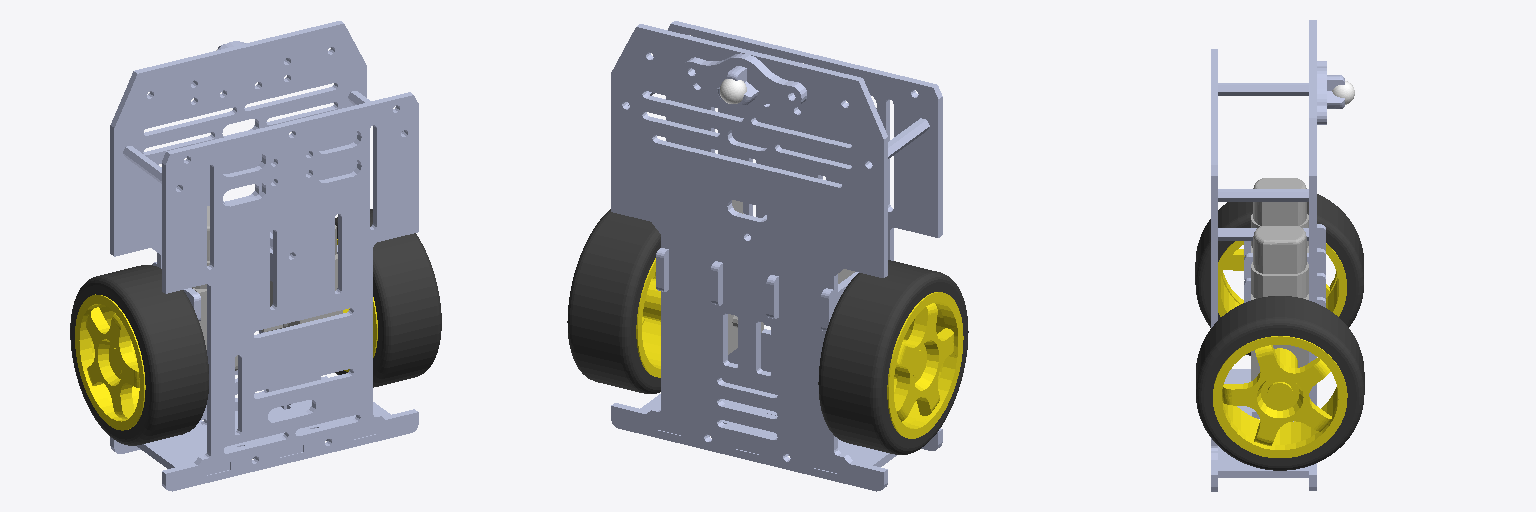
URDF robot description (Carrinho URDF):
<robot
  name="Carrinho URDF">
  <link
    name="Carrinho">
    <inertial>
      <origin
        xyz="0.00199666199987792 -0.0189400807611972 -0.0136881532668823"
        rpy="0 0 0" />
      <mass
        value="0.082768423902304" />
      <inertia
        ixx="0.000201613844720641"
        ixy="2.66609005386214E-08"
        ixz="3.70440577606517E-07"
        iyy="0.000240846517634568"
        iyz="-6.05506685626216E-06"
        izz="9.16930272171248E-05" />
    </inertial>
    <visual>
      <origin
        xyz="0 0 0"
        rpy="0 0 0" />
      <geometry>
        <mesh
          filename="package://Carrinho URDF/meshes/Carrinho.STL" />
      </geometry>
      <material
        name="">
        <color
          rgba="0.792156862745098 0.819607843137255 0.933333333333333 1" />
      </material>
    </visual>
    <collision>
      <origin
        xyz="0 0 0"
        rpy="0 0 0" />
      <geometry>
        <mesh
          filename="package://Carrinho URDF/meshes/Carrinho.STL" />
      </geometry>
    </collision>
  </link>
  <link
    name="Suporte_Esfera">
    <inertial>
      <origin
        xyz="-1.74261561344119E-10 3.40530969989428E-05 0.00148657220862539"
        rpy="0 0 0" />
      <mass
        value="0.00237414440210429" />
      <inertia
        ixx="4.87449544241318E-08"
        ixy="7.95368212523813E-15"
        ixz="2.08753910021196E-15"
        iyy="2.65313839101856E-07"
        iyz="3.24384163348973E-10"
        izz="2.97043383546495E-07" />
    </inertial>
    <visual>
      <origin
        xyz="0 0 0"
        rpy="0 0 0" />
      <geometry>
        <mesh
          filename="package://Carrinho URDF/meshes/Suporte_Esfera.STL" />
      </geometry>
      <material
        name="">
        <color
          rgba="0.792156862745098 0.819607843137255 0.933333333333333 1" />
      </material>
    </visual>
    <collision>
      <origin
        xyz="0 0 0"
        rpy="0 0 0" />
      <geometry>
        <mesh
          filename="package://Carrinho URDF/meshes/Suporte_Esfera.STL" />
      </geometry>
    </collision>
  </link>
  <joint
    name="Suporte_Esfera"
    type="fixed">
    <origin
      xyz="0.00193006122237212 0.00399999999997863 0.0602622704161046"
      rpy="1.5707963267949 0 0" />
    <parent
      link="Carrinho" />
    <child
      link="Suporte_Esfera" />
    <axis
      xyz="0 0 0" />
  </joint>
  <link
    name="Esfera">
    <inertial>
      <origin
        xyz="-5.82702822648933E-05 -2.4175771078036E-06 -0.00584954283957461"
        rpy="0 0 0" />
      <mass
        value="0.00045167495160957" />
      <inertia
        ixx="4.09374806834351E-09"
        ixy="9.63756597512817E-30"
        ixz="-7.86966983612496E-14"
        iyy="4.09344819598164E-09"
        iyz="8.24300091953962E-42"
        izz="4.09344819598164E-09" />
    </inertial>
    <visual>
      <origin
        xyz="0 0 0"
        rpy="0 0 0" />
      <geometry>
        <mesh
          filename="package://Carrinho URDF/meshes/Esfera.STL" />
      </geometry>
      <material
        name="">
        <color
          rgba="1 1 1 1" />
      </material>
    </visual>
    <collision>
      <origin
        xyz="0 0 0"
        rpy="0 0 0" />
      <geometry>
        <mesh
          filename="package://Carrinho URDF/meshes/Esfera.STL" />
      </geometry>
    </collision>
  </link>
  <joint
    name="Esfera"
    type="continuous">
    <origin
      xyz="0 0 0"
      rpy="0 0 0" />
    <parent
      link="Suporte_Esfera" />
    <child
      link="Esfera" />
    <axis
      xyz="0 0 1" />
  </joint>
  <link
    name="Motor_D">
    <inertial>
      <origin
        xyz="0.0238231938332452 -0.014248229179572 -0.0226342761780915"
        rpy="0 0 0" />
      <mass
        value="0.0232395660314829" />
      <inertia
        ixx="7.88517781065102E-06"
        ixy="-1.50721312408531E-11"
        ixz="-5.63972204102169E-09"
        iyy="7.69643214597542E-06"
        iyz="8.82214845720843E-10"
        izz="1.5253573475261E-06" />
    </inertial>
    <visual>
      <origin
        xyz="0 0 0"
        rpy="0 0 0" />
      <geometry>
        <mesh
          filename="package://Carrinho URDF/meshes/Motor_D.STL" />
      </geometry>
      <material
        name="">
        <color
          rgba="0.752941176470588 0.752941176470588 0.752941176470588 1" />
      </material>
    </visual>
    <collision>
      <origin
        xyz="0 0 0"
        rpy="0 0 0" />
      <geometry>
        <mesh
          filename="package://Carrinho URDF/meshes/Motor_D.STL" />
      </geometry>
    </collision>
  </link>
  <joint
    name="Motor_D"
    type="fixed">
    <origin
      xyz="0 0 0"
      rpy="0 0 0" />
    <parent
      link="Carrinho" />
    <child
      link="Motor_D" />
    <axis
      xyz="0 0 0" />
  </joint>
  <link
    name="Roda_D">
    <inertial>
      <origin
        xyz="2.13200332388475E-10 -0.0180789354797895 -5.56268250039016E-09"
        rpy="0 0 0" />
      <mass
        value="0.0192262452096981" />
      <inertia
        ixx="5.3538644746941E-06"
        ixy="1.85716539437448E-14"
        ixz="-9.4733702267839E-14"
        iyy="8.13780883173974E-06"
        iyz="-1.19742575833095E-13"
        izz="5.35401412475363E-06" />
    </inertial>
    <visual>
      <origin
        xyz="0 0 0"
        rpy="0 0 0" />
      <geometry>
        <mesh
          filename="package://Carrinho URDF/meshes/Roda_D.STL" />
      </geometry>
      <material
        name="">
        <color
          rgba="1 0.933333333333333 0.133333333333333 1" />
      </material>
    </visual>
    <collision>
      <origin
        xyz="0 0 0"
        rpy="0 0 0" />
      <geometry>
        <mesh
          filename="package://Carrinho URDF/meshes/Roda_D.STL" />
      </geometry>
    </collision>
  </link>
  <joint
    name="Roda_D"
    type="revolute">
    <origin
      xyz="0.0350300612223726 -0.0141843621168738 -0.0397377295838951"
      rpy="1.5707963267949 -1.5707963267949 0" />
    <parent
      link="Motor_D" />
    <child
      link="Roda_D" />
    <axis
      xyz="0 -1 0" />
  </joint>
  <link
    name="Pneu_D">
    <inertial>
      <origin
        xyz="1.00676758596485E-12 -0.0100000000000003 0.0169999623664972"
        rpy="0 0 0" />
      <mass
        value="0.0290901066464294" />
      <inertia
        ixx="1.39853690384949E-05"
        ixy="-4.04662956150723E-11"
        ixz="-3.3017913101882E-20"
        iyy="1.39897083178151E-05"
        iyz="4.97345879631873E-20"
        izz="2.50811515180265E-05" />
    </inertial>
    <visual>
      <origin
        xyz="0 0 0"
        rpy="0 0 0" />
      <geometry>
        <mesh
          filename="package://Carrinho URDF/meshes/Pneu_D.STL" />
      </geometry>
      <material
        name="">
        <color
          rgba="0.294117647058824 0.294117647058824 0.294117647058824 1" />
      </material>
    </visual>
    <collision>
      <origin
        xyz="0 0 0"
        rpy="0 0 0" />
      <geometry>
        <mesh
          filename="package://Carrinho URDF/meshes/Pneu_D.STL" />
      </geometry>
    </collision>
  </link>
  <joint
    name="Pneu_D"
    type="fixed">
    <origin
      xyz="0.01 0 0"
      rpy="1.5707963267949 1.5707963267949 0" />
    <parent
      link="Roda_D" />
    <child
      link="Pneu_D" />
    <axis
      xyz="0 0 1" />
  </joint>
  <link
    name="Motor_E">
    <inertial>
      <origin
        xyz="-0.0199630713885005 -0.0142517708204707 -0.0226342761780919"
        rpy="0 0 0" />
      <mass
        value="0.0232395660314828" />
      <inertia
        ixx="7.88517781065102E-06"
        ixy="-1.50721312408669E-11"
        ixz="5.63972204102054E-09"
        iyy="7.69643214597542E-06"
        iyz="-8.82214845721639E-10"
        izz="1.5253573475261E-06" />
    </inertial>
    <visual>
      <origin
        xyz="0 0 0"
        rpy="0 0 0" />
      <geometry>
        <mesh
          filename="package://Carrinho URDF/meshes/Motor_E.STL" />
      </geometry>
      <material
        name="">
        <color
          rgba="0.752941176470588 0.752941176470588 0.752941176470588 1" />
      </material>
    </visual>
    <collision>
      <origin
        xyz="0 0 0"
        rpy="0 0 0" />
      <geometry>
        <mesh
          filename="package://Carrinho URDF/meshes/Motor_E.STL" />
      </geometry>
    </collision>
  </link>
  <joint
    name="Motor_E"
    type="fixed">
    <origin
      xyz="0 0 0"
      rpy="0 0 0" />
    <parent
      link="Carrinho" />
    <child
      link="Motor_E" />
    <axis
      xyz="0 0 0" />
  </joint>
  <link
    name="Roda_E">
    <inertial>
      <origin
        xyz="2.13200332388475E-10 -0.0180789354797895 -5.56268249865544E-09"
        rpy="0 0 0" />
      <mass
        value="0.0192262452096981" />
      <inertia
        ixx="5.3538644746941E-06"
        ixy="1.85716557030657E-14"
        ixz="-9.47337026621762E-14"
        iyy="8.13780883173973E-06"
        iyz="-1.19742576037902E-13"
        izz="5.35401412475363E-06" />
    </inertial>
    <visual>
      <origin
        xyz="0 0 0"
        rpy="0 0 0" />
      <geometry>
        <mesh
          filename="package://Carrinho URDF/meshes/Roda_E.STL" />
      </geometry>
      <material
        name="">
        <color
          rgba="1 0.933333333333333 0.133333333333333 1" />
      </material>
    </visual>
    <collision>
      <origin
        xyz="0 0 0"
        rpy="0 0 0" />
      <geometry>
        <mesh
          filename="package://Carrinho URDF/meshes/Roda_E.STL" />
      </geometry>
    </collision>
  </link>
  <joint
    name="Roda_E"
    type="revolute">
    <origin
      xyz="-0.0311699387776279 -0.0143156378831686 -0.0397377295838953"
      rpy="0 1.52438302633885 -1.5707963267949" />
    <parent
      link="Motor_E" />
    <child
      link="Roda_E" />
    <axis
      xyz="0 1 0" />
  </joint>
  <link
    name="Pneu_E">
    <inertial>
      <origin
        xyz="1.0067641165179E-12 3.19189119579733E-16 -0.0125012163640283"
        rpy="0 0 0" />
      <mass
        value="0.0290901066464294" />
      <inertia
        ixx="1.39853690384949E-05"
        ixy="4.04662956205065E-11"
        ixz="3.46304386181604E-20"
        iyy="1.39897083178151E-05"
        iyz="5.52146560348243E-20"
        izz="2.50811515180265E-05" />
    </inertial>
    <visual>
      <origin
        xyz="0 0 0"
        rpy="0 0 0" />
      <geometry>
        <mesh
          filename="package://Carrinho URDF/meshes/Pneu_E.STL" />
      </geometry>
      <material
        name="">
        <color
          rgba="0.294117647058824 0.294117647058824 0.294117647058824 1" />
      </material>
    </visual>
    <collision>
      <origin
        xyz="0 0 0"
        rpy="0 0 0" />
      <geometry>
        <mesh
          filename="package://Carrinho URDF/meshes/Pneu_E.STL" />
      </geometry>
    </collision>
  </link>
  <joint
    name="Pneu_E"
    type="fixed">
    <origin
      xyz="0 -0.00449874600246884 0"
      rpy="-1.5707963267949 -1.52438302633885 0" />
    <parent
      link="Roda_E" />
    <child
      link="Pneu_E" />
    <axis
      xyz="0 0 1" />
  </joint>
</robot>

--- Facts derived from the render (not from the file) ---
3 views of the same robot in one strip: view 1: azimuth 30°, elevation 25°; view 2: azimuth 150°, elevation 25°; view 3: azimuth 270°, elevation 25° (orthographic).
Robot: Carrinho URDF — 9 links, 8 joints (2 revolute, 1 continuous, 5 fixed); root link Carrinho; default pose: every joint at zero.
Links seen in each view (by area): view 1: Carrinho, Pneu_E, Pneu_D, Roda_E, Motor_E, Motor_D; view 2: Carrinho, Pneu_E, Pneu_D, Roda_E, Suporte_Esfera, Roda_D, Esfera; view 3: Roda_D, Pneu_D, Carrinho, Pneu_E, Motor_D, Roda_E, Motor_E, Suporte_Esfera.
Boxes of the visible links, x1,y1,x2,y2 form: Carrinho: (110,21,418,491); Pneu_E: (70,265,208,445); Pneu_D: (335,209,441,387); Roda_E: (75,294,145,430); Motor_E: (192,206,237,370); Motor_D: (261,225,342,331); Carrinho: (611,21,942,491); Pneu_E: (818,260,968,454); Pneu_D: (567,209,660,393); Roda_E: (887,292,963,438); Suporte_Esfera: (682,53,806,110); Roda_D: (636,258,660,377); Esfera: (720,79,746,103); Roda_D: (1213,336,1347,457); Pneu_D: (1196,296,1364,470); Carrinho: (1211,20,1325,491); Pneu_E: (1195,194,1363,355); Motor_D: (1251,226,1308,380); Roda_E: (1218,241,1346,316); Motor_E: (1251,178,1308,252); Suporte_Esfera: (1317,61,1344,124).
Size in the robot's own frame: 0.1262 by 0.0651 by 0.155 metres.
Meshes: 9 distinct files referenced, 9 mesh visuals loaded (9 binary STL).
